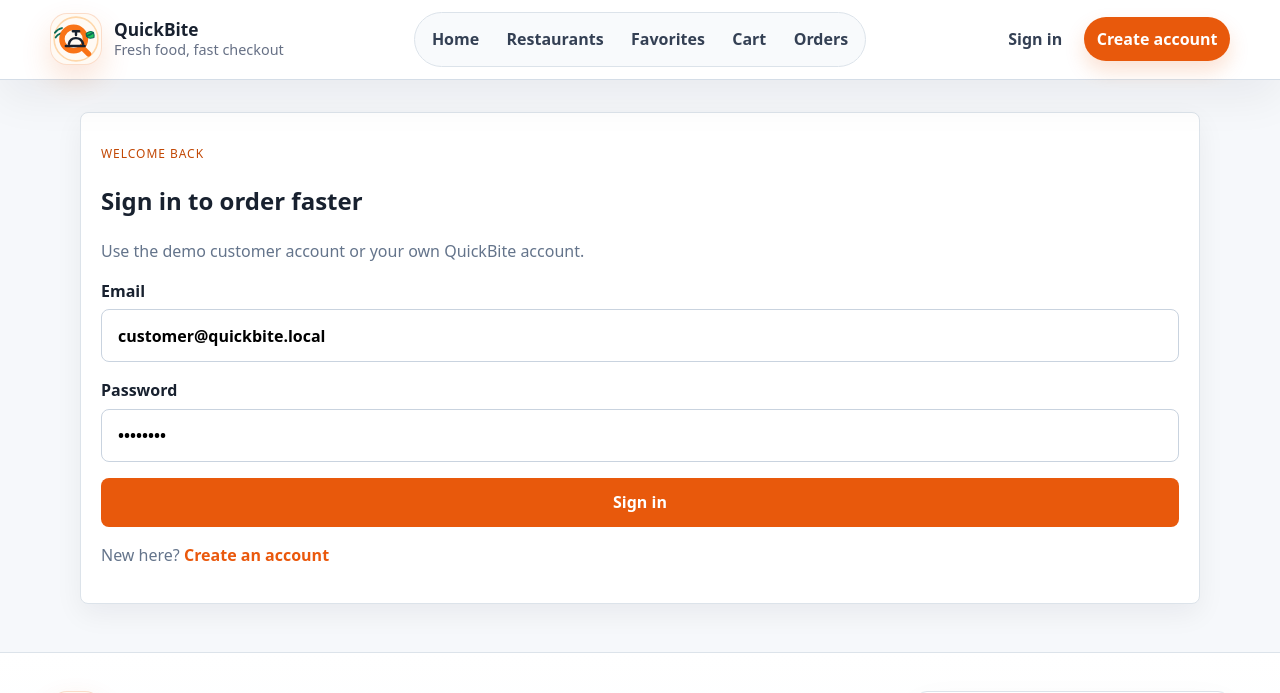
Scenario: QuickBite app shell › lets anonymous users navigate from login to account creation
This screenshot has width=1280, height=693.
Click the link "Create an account". click: {"x": 256, "y": 555}
box: [184,544,329,566]
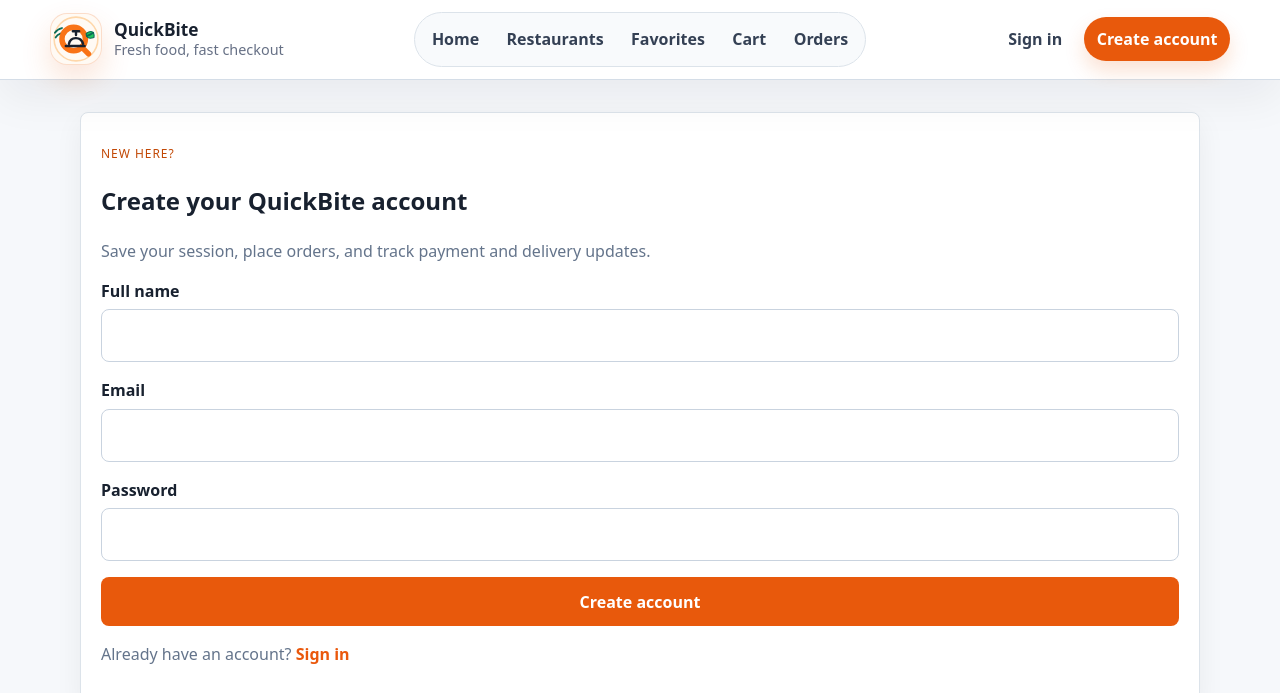
Expected: the heading "Create your QuickBite account" is shown, [101,184,467,217]
